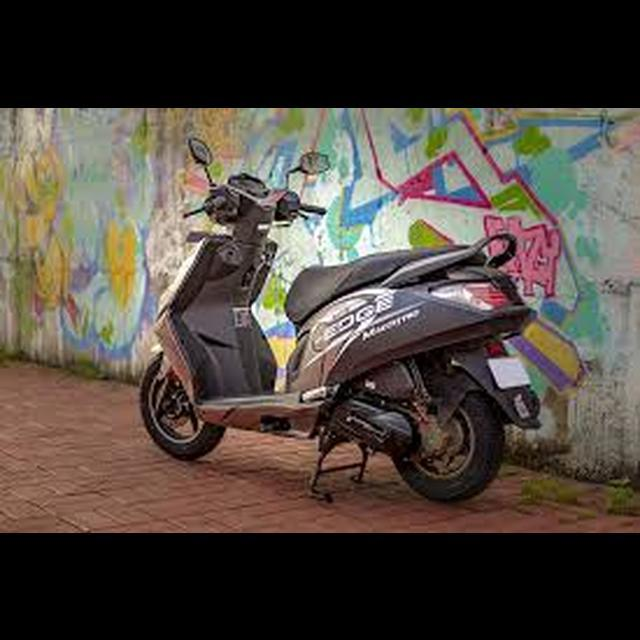motorcycle: (139, 135, 550, 511)
